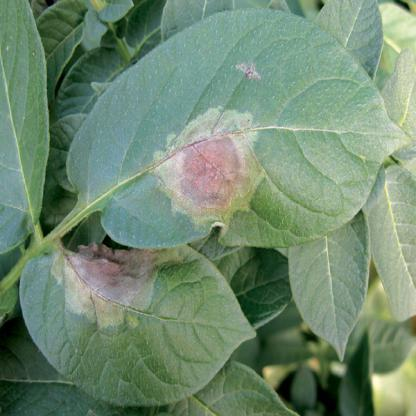Potato leaf late blight: (64, 4, 413, 252), (19, 239, 260, 401)
